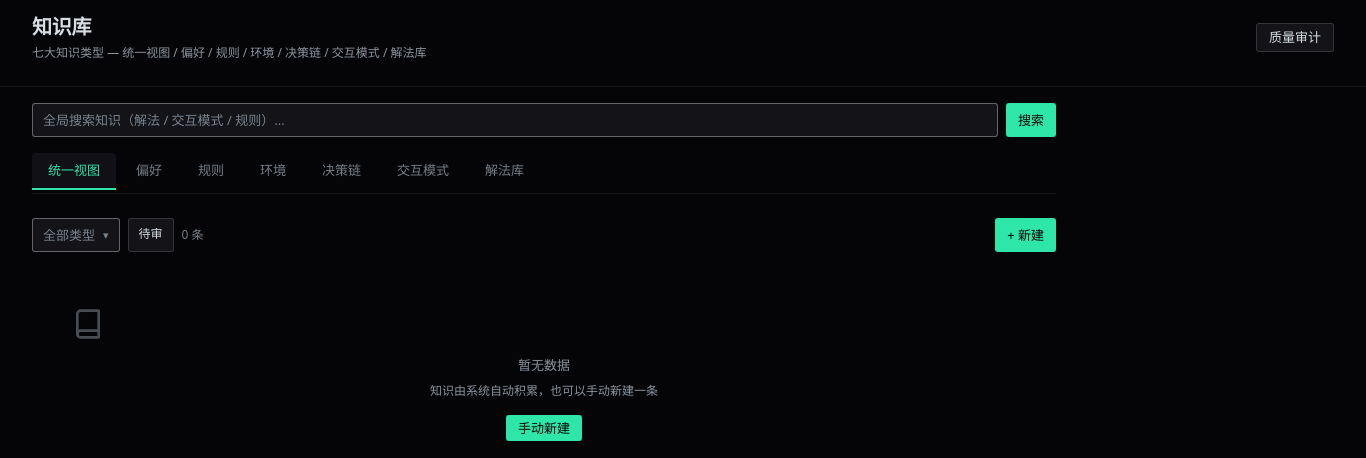
it: 批次 F-4: 统一视图空态挂「手动新建」入口（双语境） › 「待审」筛选下空态走筛选语境，不显示「手动新建」
Expected: the text "暂无数据" is shown, 518,356 -> 570,374
Click the button "待审". click: (150, 235)
box: 128,218 -> 174,252
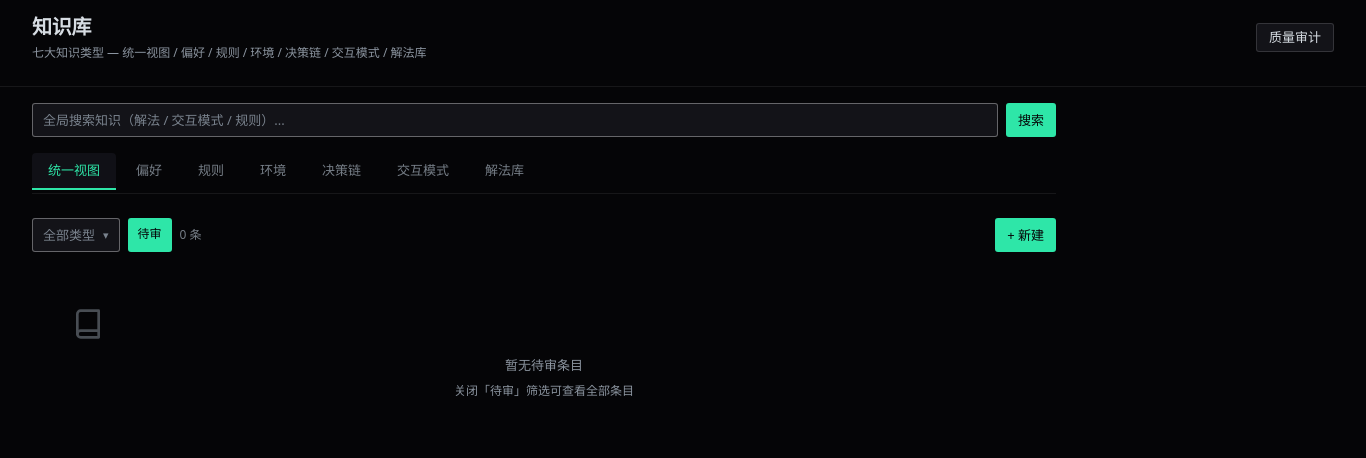
Now the text "暂无待审条目" is shown, box 505,356 -> 583,374
Now the text "关闭「待审」筛选可查看全部条目" is shown, box 454,382 -> 634,399
Now the text "手动新建" is gone
